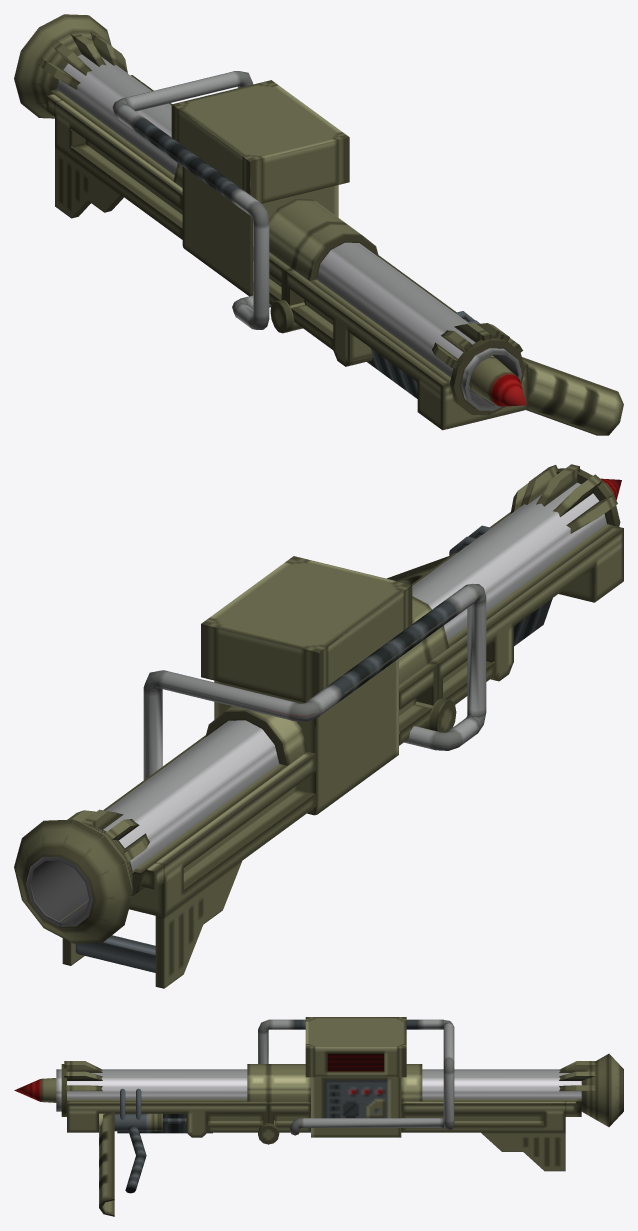
Rendered from missile_launcher.obj.
3 renders of one model, top to bottom at view 1: azimuth 30°, elevation 25°; view 2: azimuth 150°, elevation 25°; view 3: azimuth 270°, elevation 25°, orthographic. The views are drawn at different scales.
Parts seen in each view (by area): view 1: Launcher, Front, Barrel, Missile; view 2: Launcher, Front, Barrel; view 3: Launcher, Front, Barrel, Missile.
Boxes of the visible parts, x1=… form: Launcher: x1=14, y1=14, x2=349, y2=333; Front: x1=286, y1=223, x2=623, y2=435; Barrel: x1=316, y1=242, x2=521, y2=410; Missile: x1=468, y1=355, x2=526, y2=406; Launcher: x1=14, y1=556, x2=486, y2=988; Front: x1=387, y1=464, x2=623, y2=704; Barrel: x1=412, y1=482, x2=606, y2=640; Launcher: x1=258, y1=1017, x2=623, y2=1171; Front: x1=61, y1=1061, x2=268, y2=1216; Barrel: x1=56, y1=1069, x2=247, y2=1111; Missile: x1=14, y1=1078, x2=56, y2=1102.
Bounding box in the file's own units: 4.35 × 3.57 × 14.37.
